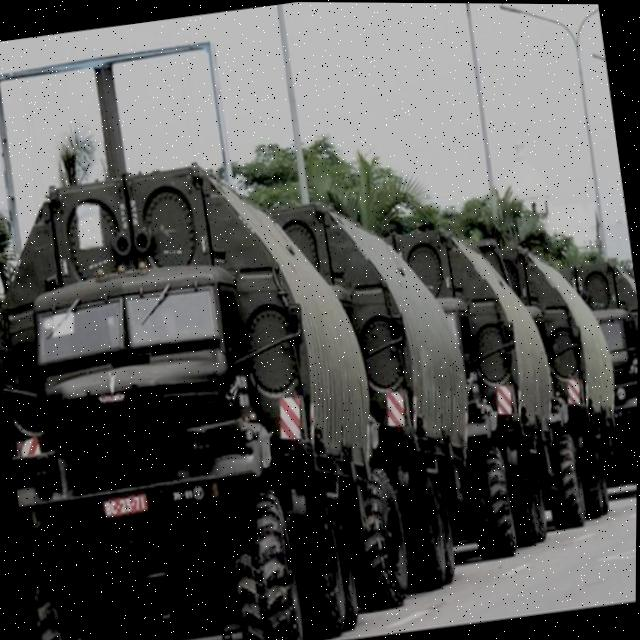car: (0, 139, 405, 640)
plate: (93, 483, 154, 526)
